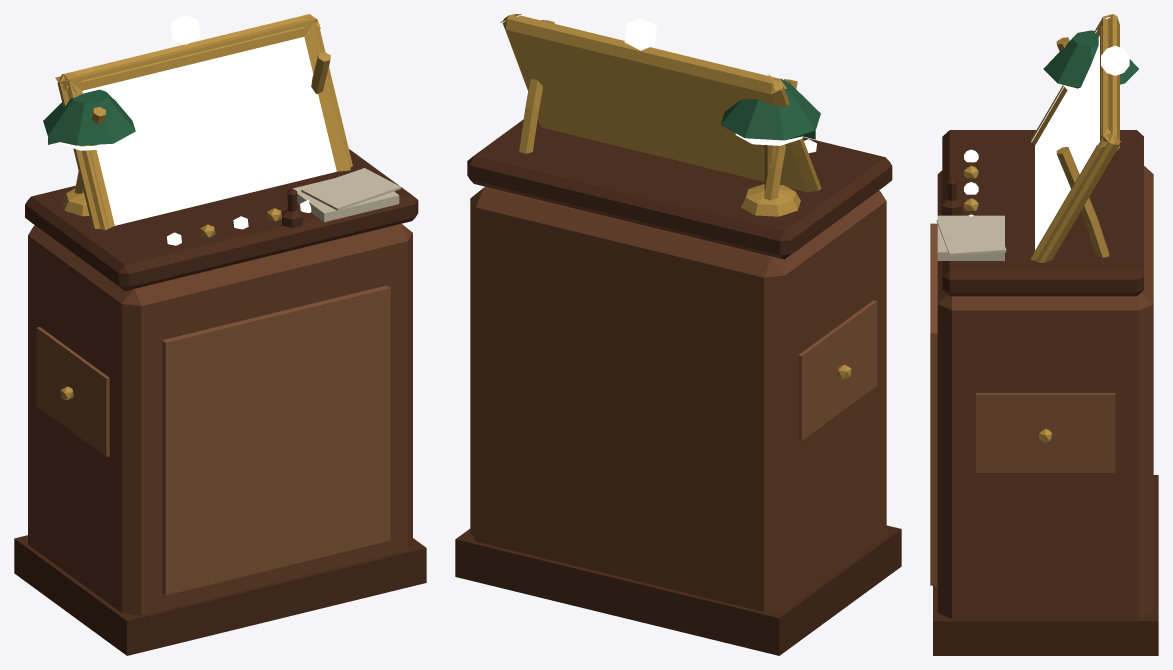
The model's file is kit-paris-terminal.glb.
3 renders of one model, left to right at view 1: azimuth 30°, elevation 25°; view 2: azimuth 150°, elevation 25°; view 3: azimuth 270°, elevation 25°, orthographic. The views are drawn at different scales.
Parts seen in each view (by area): view 1: kit-paris-terminal; view 2: kit-paris-terminal; view 3: kit-paris-terminal.
Part boxes in pixels (x1=…): kit-paris-terminal: x1=14, y1=14, x2=426, y2=655; kit-paris-terminal: x1=455, y1=14, x2=901, y2=655; kit-paris-terminal: x1=930, y1=14, x2=1158, y2=655.
Bounding box in the file's own units: 0.7646 × 1.24 × 0.475.
